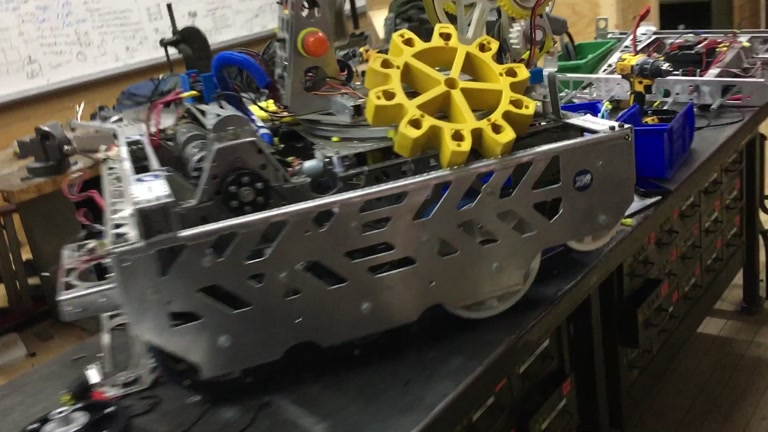gear: (364, 24, 537, 169)
